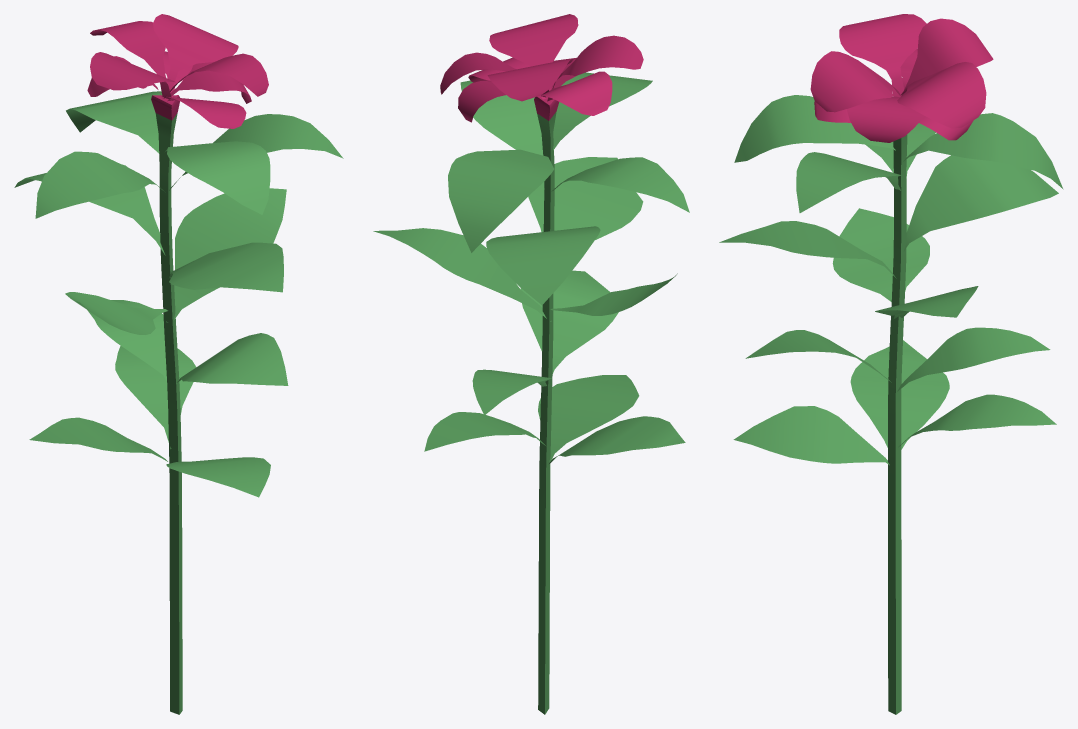
File: plant_flower_C.fbx
The picture shows the model from 3 angles, left to right: view 1: azimuth 30°, elevation 25°; view 2: azimuth 150°, elevation 25°; view 3: azimuth 270°, elevation 25°; orthographic projection.
Visible parts, largest first — view 1: plant_flower_C_twig, plant_flower_C_leaf_F, plant_flower_C_leaf_B, plant_flower_C_leaf_C, plant_flower_C_leaf_G, plant_flower_C_leaf_J, plant_flower_C_leaf_D, plant_flower_C_leaf_K, plant_flower_C_flower_B, plant_flower_C_leaf_A, plant_flower_C_leaf_M, plant_flower_C_leaf_L (+8 smaller); view 2: plant_flower_C_leaf_A, plant_flower_C_twig, plant_flower_C_leaf_G, plant_flower_C_leaf_E, plant_flower_C_leaf_M, plant_flower_C_leaf_F, plant_flower_C_leaf_J, plant_flower_C_leaf_C, plant_flower_C_leaf_L, plant_flower_C_leaf_D, plant_flower_C_flower_A, plant_flower_C_leaf_K (+8 smaller); view 3: plant_flower_C_twig, plant_flower_C_leaf_E, plant_flower_C_leaf_M, plant_flower_C_leaf_L, plant_flower_C_leaf_H, plant_flower_C_leaf_B, plant_flower_C_leaf_A, plant_flower_C_flower_B, plant_flower_C_flower_D, plant_flower_C_leaf_I, plant_flower_C_flower_A, plant_flower_C_flower_C (+7 smaller).
Boxes of the visible parts, box(x1,y1,x2,y2) form: plant_flower_C_twig: box(151, 95, 182, 714); plant_flower_C_leaf_F: box(166, 188, 286, 322); plant_flower_C_leaf_B: box(165, 141, 270, 214); plant_flower_C_leaf_C: box(35, 151, 163, 218); plant_flower_C_leaf_G: box(168, 242, 283, 292); plant_flower_C_leaf_J: box(177, 333, 288, 385); plant_flower_C_leaf_D: box(169, 114, 343, 190); plant_flower_C_leaf_K: box(115, 346, 196, 448); plant_flower_C_flower_B: box(153, 14, 238, 90); plant_flower_C_leaf_A: box(66, 91, 161, 153); plant_flower_C_leaf_M: box(166, 457, 270, 497); plant_flower_C_leaf_L: box(29, 417, 167, 461); plant_flower_C_leaf_A: box(448, 149, 553, 252); plant_flower_C_twig: box(534, 95, 558, 714); plant_flower_C_leaf_G: box(528, 157, 643, 239); plant_flower_C_leaf_E: box(486, 226, 600, 304); plant_flower_C_leaf_M: box(538, 375, 639, 461); plant_flower_C_leaf_F: box(373, 228, 551, 321); plant_flower_C_leaf_J: box(520, 270, 618, 373); plant_flower_C_leaf_C: box(551, 157, 689, 212); plant_flower_C_leaf_L: box(549, 416, 685, 463); plant_flower_C_leaf_D: box(460, 80, 544, 188); plant_flower_C_flower_A: box(489, 14, 578, 99); plant_flower_C_leaf_K: box(424, 412, 545, 451); plant_flower_C_twig: box(888, 134, 907, 714); plant_flower_C_leaf_E: box(904, 155, 1058, 250); plant_flower_C_leaf_M: box(733, 406, 889, 465); plant_flower_C_leaf_L: box(850, 340, 949, 449); plant_flower_C_leaf_H: box(832, 208, 929, 301); plant_flower_C_leaf_B: box(734, 95, 895, 162); plant_flower_C_leaf_A: box(903, 113, 1063, 189); plant_flower_C_flower_B: box(897, 62, 986, 128); plant_flower_C_flower_D: box(839, 14, 926, 97); plant_flower_C_leaf_I: box(897, 327, 1050, 391); plant_flower_C_flower_A: box(810, 51, 901, 112); plant_flower_C_flower_C: box(901, 18, 993, 95).
Size of the model in its own units: 43 by 97.51 by 45.47.
